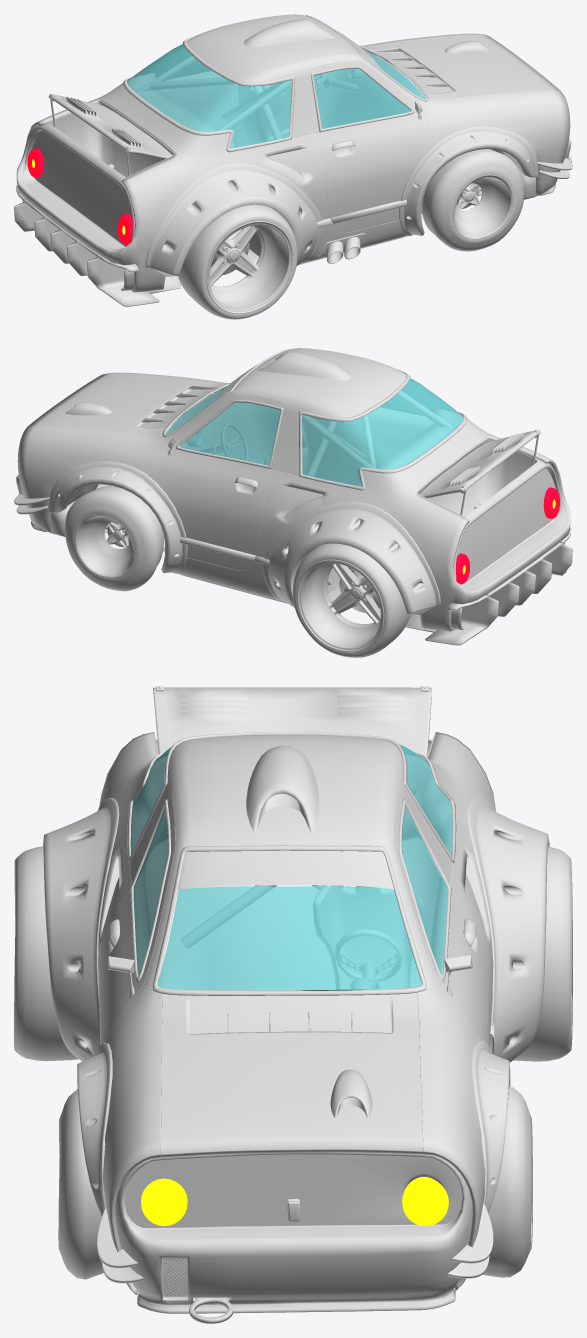
Rendered from Car.fbx.
The picture shows the model from 3 angles, top to bottom: view 1: azimuth 30°, elevation 25°; view 2: azimuth 150°, elevation 25°; view 3: azimuth 270°, elevation 25°; orthographic projection. The views are drawn at different scales.
Parts seen in each view (by area): view 1: Cube.001, Cube.004, Cube.002, Cube.005_0.004, Cube.000, Cube.005_0.001, Cube.000_0.003, Cube.001_0.005, Cube.000_0.001; view 2: Cube.001, Cube.004, Cube.002, Cube.000, Cube.005_0.002, Cube.005_0.005, Cube.000_0.002, Cube.001_0.005, Cube.000_0.001; view 3: Cube.001, Cube.004, Cube.002, Cube.000_0.001, Cube.005_0.004, Cube.005_0.002, Cube.005_0.005, Cube.005_0.001, Cube.000, Cube.000_0.002, Cube.000_0.003, Cube.001_0.003 (+1 smaller).
Part boxes in pixels (x1,y1,x2,y2): Cube.001: (16, 14, 572, 292); Cube.004: (14, 59, 571, 306); Cube.002: (127, 50, 424, 147); Cube.005_0.004: (178, 204, 297, 319); Cube.000: (127, 44, 292, 148); Cube.005_0.001: (421, 149, 524, 251); Cube.000_0.003: (313, 68, 411, 128); Cube.001_0.005: (27, 148, 132, 244); Cube.000_0.001: (364, 50, 424, 98); Cube.001: (14, 348, 570, 631); Cube.004: (16, 405, 572, 645); Cube.002: (166, 389, 462, 485); Cube.000: (302, 378, 463, 486); Cube.005_0.002: (292, 543, 410, 657); Cube.005_0.005: (64, 486, 163, 591); Cube.000_0.002: (179, 402, 280, 465); Cube.001_0.005: (456, 487, 559, 583); Cube.000_0.001: (166, 386, 227, 433); Cube.001: (43, 686, 549, 1323); Cube.004: (115, 739, 472, 1313); Cube.002: (131, 755, 451, 989); Cube.000_0.001: (157, 886, 421, 991); Cube.005_0.004: (14, 846, 78, 1061); Cube.005_0.002: (513, 846, 572, 1061); Cube.005_0.005: (482, 1086, 532, 1277); Cube.005_0.001: (58, 1089, 103, 1279); Cube.000: (130, 744, 452, 855); Cube.000_0.002: (402, 807, 447, 974); Cube.000_0.003: (133, 808, 168, 976); Cube.001_0.003: (402, 1177, 448, 1226).
Bounding box in the file's own units: 10.76 × 4.52 × 5.89.
